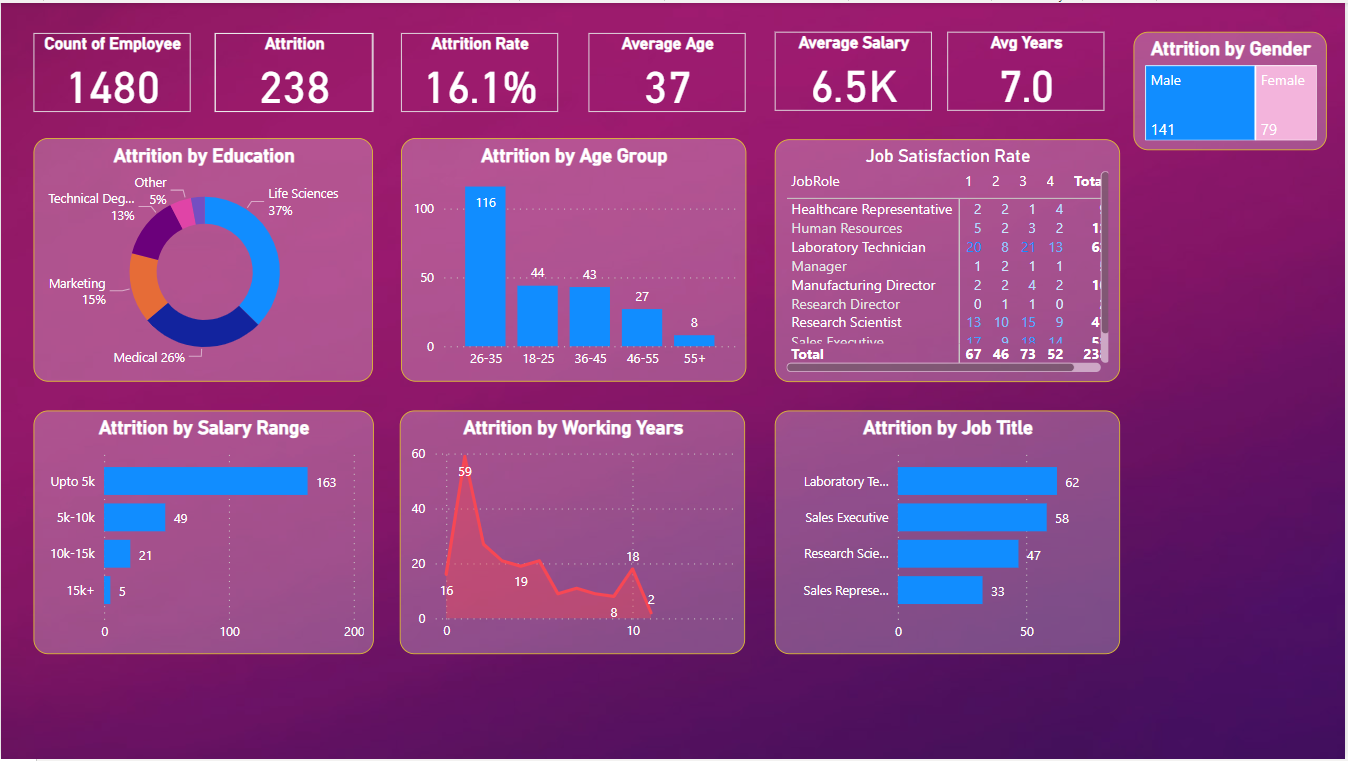

Layout of this report page (visuals, bound fields, positions):
{"tool":"powerbi","page":{"name":"Page 1","canvas":[1280,720],"ordinal":0},"visuals":[{"type":"card","title":"Count of Employee","fields":{"Values":["CountNonNull(HR_Analytics.EmpID)"]},"box":[31,28,149.4,75.4],"z":0},{"type":"card","title":"Attrition","fields":{"Values":["Sum(HR_Analytics.AttritionCount)"]},"box":[203.7,28,150.8,75.4],"z":1000},{"type":"card","title":"Attrition Rate","fields":{"Values":["HR_Analytics.AttritionRate"]},"box":[380.6,28,149.4,75.4],"z":2000},{"type":"card","title":"Average Age","fields":{"Values":["Avg(HR_Analytics.Age)"]},"box":[558.8,28,149.4,75.4],"z":3000},{"type":"card","title":"Average Salary","fields":{"Values":["Avg(HR_Analytics.MonthlyIncome)"]},"box":[736.3,27.4,149.4,75.4],"z":4000},{"type":"card","title":"Avg Years","fields":{"Values":["Avg(HR_Analytics.YearsAtCompany)"]},"box":[900.8,27.4,149.4,75.4],"z":5000},{"type":"donutChart","title":"Attrition by Education","fields":{"Category":["HR_Analytics.EducationField"],"Y":["Sum(HR_Analytics.AttritionCount)"]},"box":[31.5,128.9,323.6,231.7],"z":6000},{"type":"columnChart","title":"Attrition by Age Group","fields":{"Category":["HR_Analytics.AgeGroup"],"Y":["Sum(HR_Analytics.AttritionCount)"]},"box":[380.8,128.5,328.5,232.1],"z":7000},{"type":"pivotTable","title":"Job Satisfaction Rate","fields":{"Rows":["HR_Analytics.JobRole"],"Columns":["HR_Analytics.JobSatisfaction"],"Values":["Sum(HR_Analytics.AttritionCount)"]},"box":[736.7,129.7,328.5,230.9],"z":8000},{"type":"barChart","title":"Attrition by Salary Range","fields":{"Category":["HR_Analytics.SalarySlab"],"Y":["Sum(HR_Analytics.AttritionCount)"]},"box":[30.9,388,323.7,232.1],"z":9000},{"type":"barChart","title":"Attrition by Job Title","fields":{"Category":["HR_Analytics.JobRole"],"Y":["Sum(HR_Analytics.AttritionCount)"]},"box":[736.7,388,328.5,232.1],"z":10000},{"type":"areaChart","title":"Attrition by Working Years","fields":{"Category":["HR_Analytics.YearsAtCompany"],"Y":["Sum(HR_Analytics.AttritionCount)"]},"box":[379.8,388,329.1,231.7],"z":11000},{"type":"treemap","title":"Attrition by Gender","fields":{"Group":["HR_Analytics.Gender"],"Values":["Sum(HR_Analytics.AttritionCount)"]},"box":[1077.6,27.4,183.7,112.4],"z":12000}]}

Visuals, with their boxes in screenshot pixels (x1, y1, x2, y2), scaled from the page's 1280x720 canvas onto the 1348x761 screenshot:
"Count of Employee" card: 33:30:190:109
"Attrition" card: 215:30:373:109
"Attrition Rate" card: 401:30:558:109
"Average Age" card: 588:30:746:109
"Average Salary" card: 775:29:933:109
"Avg Years" card: 949:29:1106:109
"Attrition by Education" donutChart: 33:136:374:381
"Attrition by Age Group" columnChart: 401:136:747:381
"Job Satisfaction Rate" pivotTable: 776:137:1122:381
"Attrition by Salary Range" barChart: 33:410:373:655
"Attrition by Job Title" barChart: 776:410:1122:655
"Attrition by Working Years" areaChart: 400:410:747:655
"Attrition by Gender" treemap: 1135:29:1328:148
